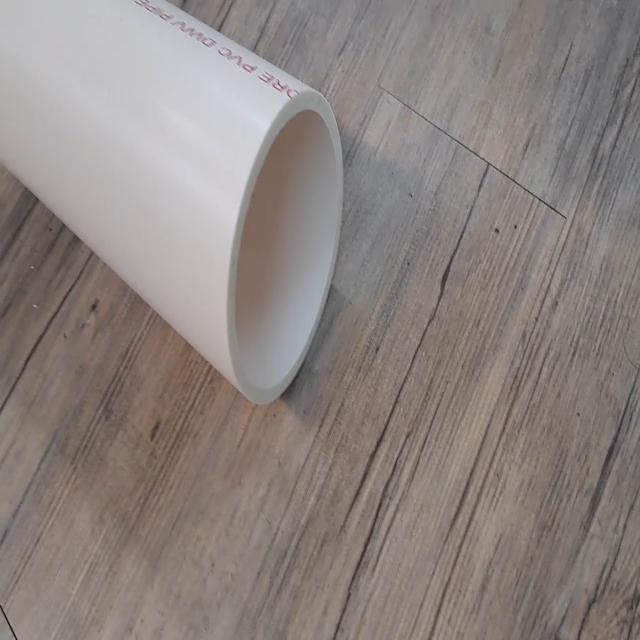CORAL: (0, 0, 351, 412)
